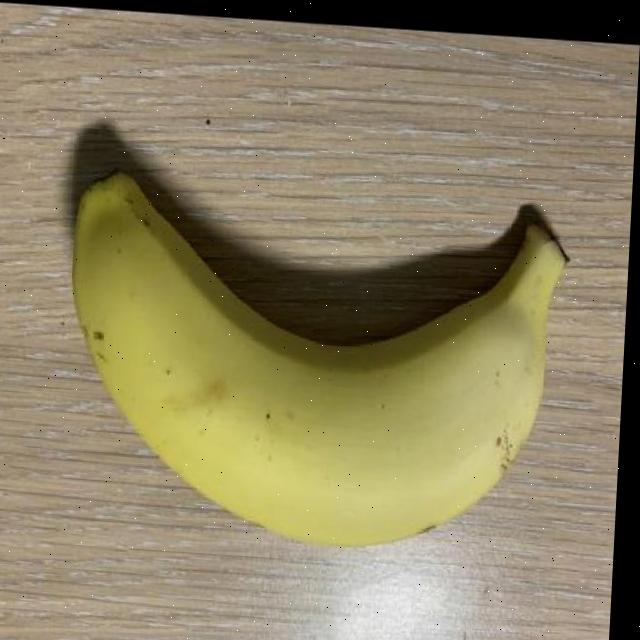banana: (51, 144, 577, 568)
